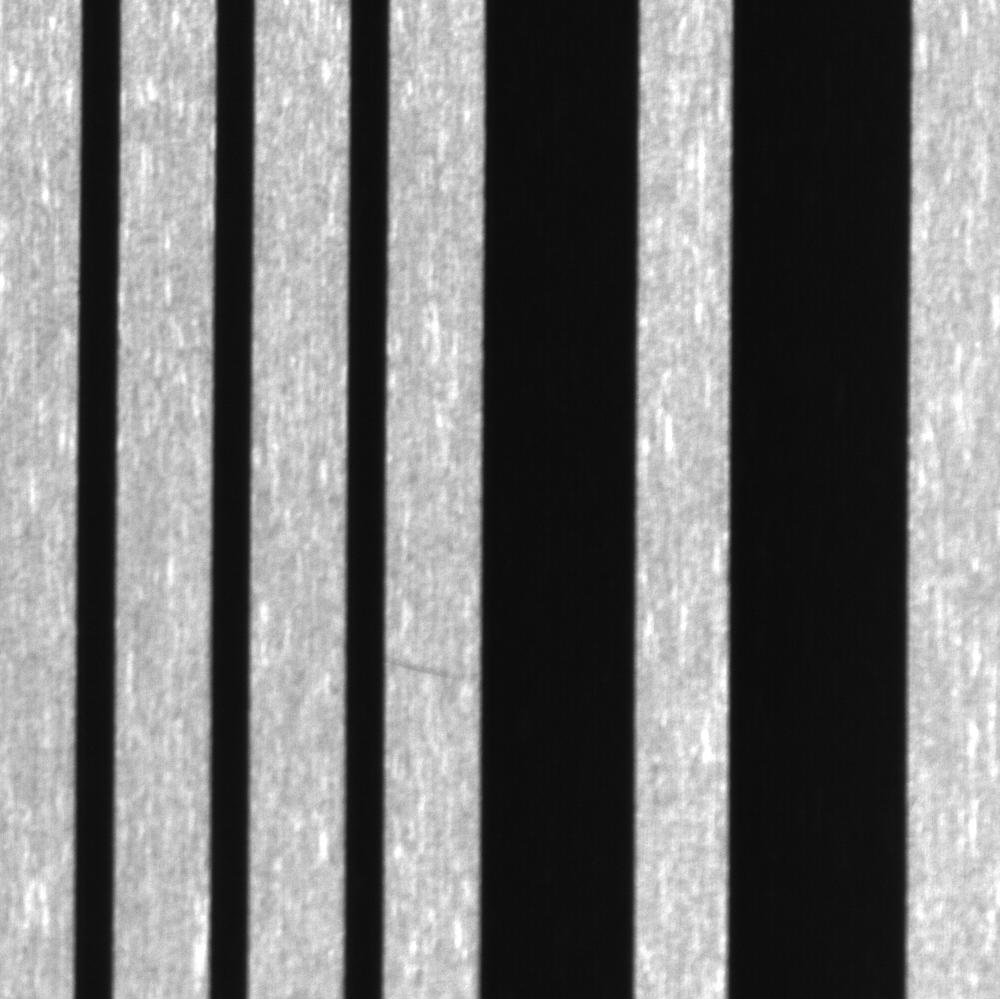Scar: (383, 644, 483, 689)
